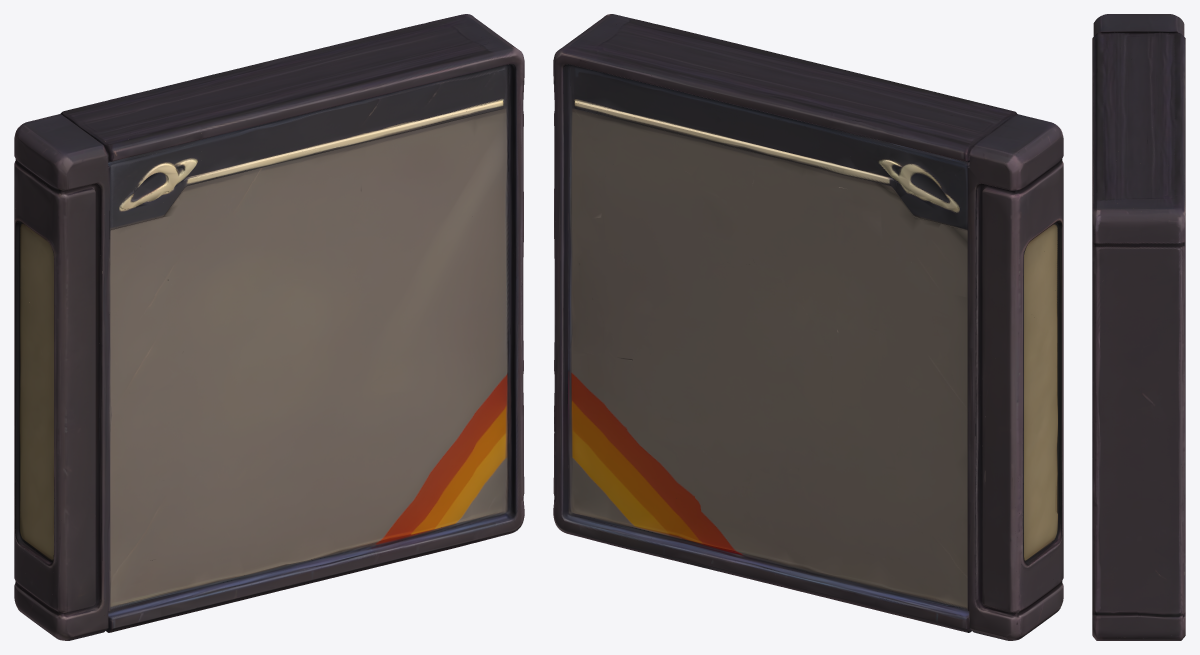
File: game-case-detail.glb
3 renders of one model, left to right at view 1: azimuth 30°, elevation 25°; view 2: azimuth 150°, elevation 25°; view 3: azimuth 270°, elevation 25°, orthographic. The views are drawn at different scales.
Visible parts, largest first — view 1: node_0; view 2: node_0; view 3: node_0.
Part boxes in pixels (<box>): node_0: <box>14,14,524,640</box>; node_0: <box>553,14,1063,640</box>; node_0: <box>1092,14,1185,640</box>.
Bounding box in the file's own units: 0.8585 × 0.8583 × 0.1672.
Materials: 1 (1 with a texture image).
